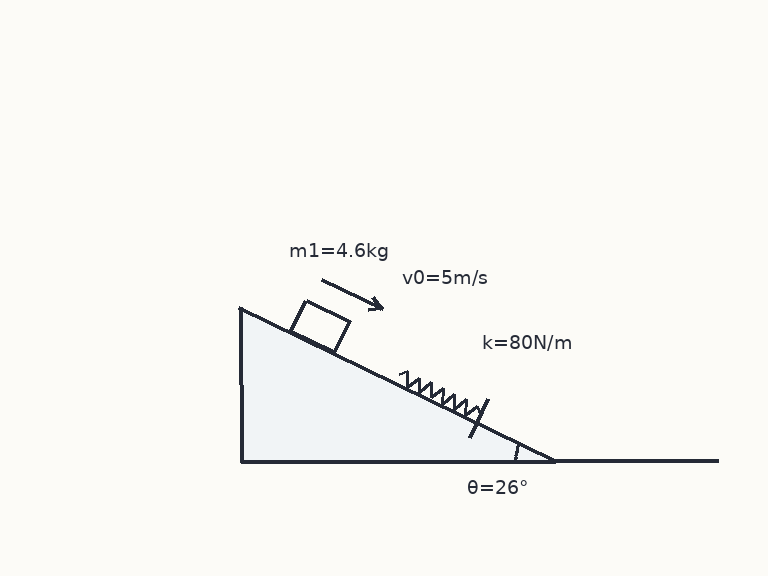block: (288, 298, 351, 355)
ramp: (238, 306, 557, 463)
spring: (397, 369, 482, 417)
